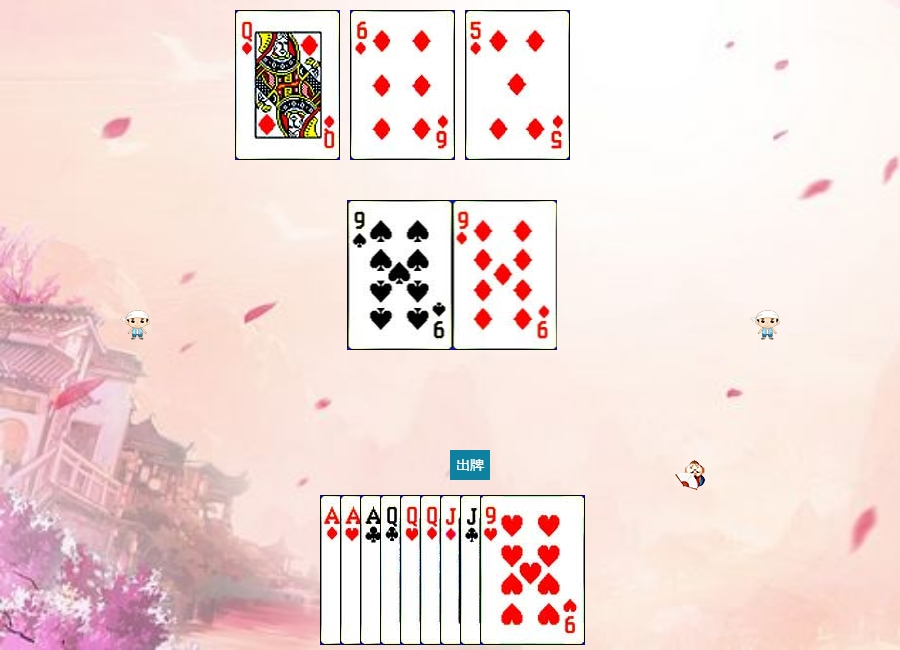11~1: (440, 495, 545, 645)
11~2: (460, 495, 565, 645)
12~1: (235, 10, 340, 160), (420, 495, 525, 645)
12~2: (380, 495, 485, 645)
12~3: (400, 495, 505, 645)
14~1: (320, 495, 425, 645)
14~2: (360, 495, 465, 645)
14~3: (340, 495, 445, 645)
5~1: (465, 10, 570, 160)
6~1: (350, 10, 455, 160)
9~1: (453, 200, 558, 350)
9~3: (480, 495, 585, 645)
9~4: (348, 200, 453, 350)
